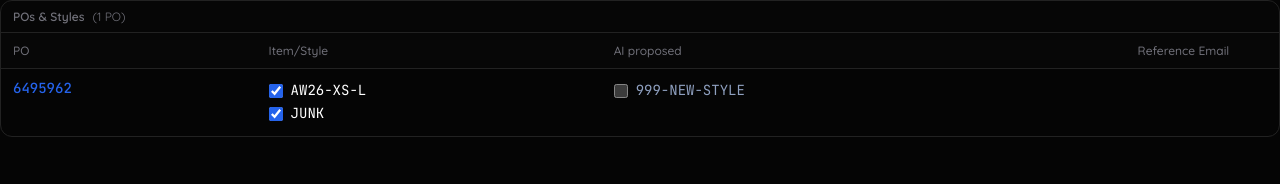
Scenario: ReviewPoStylesSection — page-level Edit › ticking composes the list and states what will be written
The width and height of the screenshot is (1280, 184).
Step 1. Click the checkbox named "Keep style JUNK on PO 6495962" → [276, 114], box top-left (269, 107), bottom-right (283, 121)
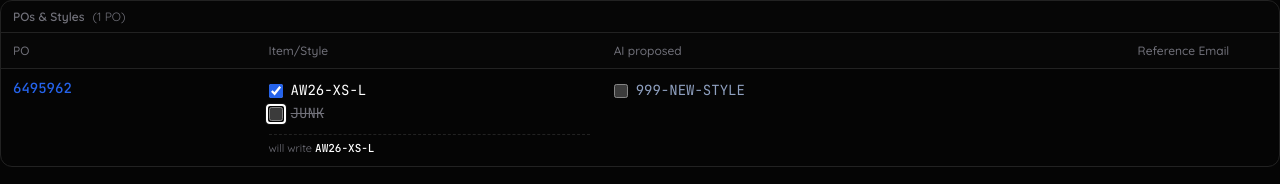
Step 2. Click the checkbox named "Add style 999-NEW-STYLE to PO 6495962" → [621, 91], box top-left (614, 84), bottom-right (628, 98)
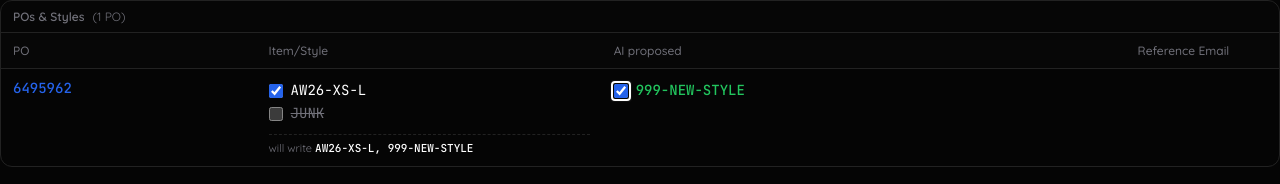
Result: the element with test id "po-plan-po1" shows "AW26-XS-L, 999-NEW-STYLE" at top-left (315, 140), bottom-right (474, 154)
